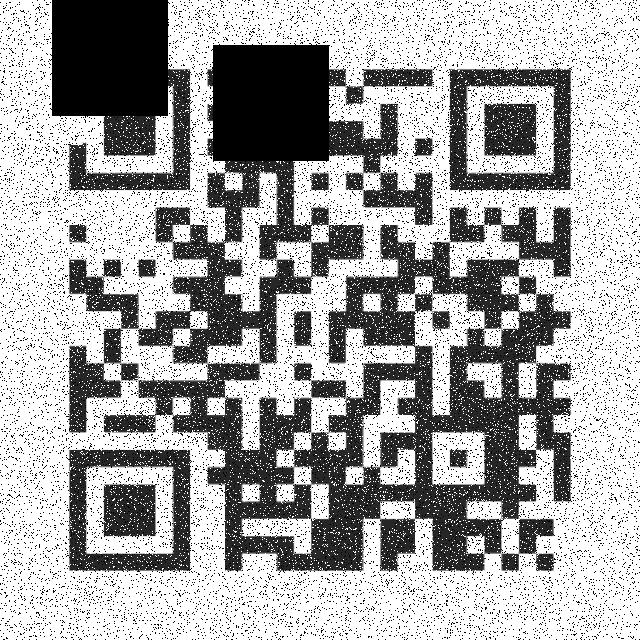QR_CODE: (49, 52, 600, 588)
